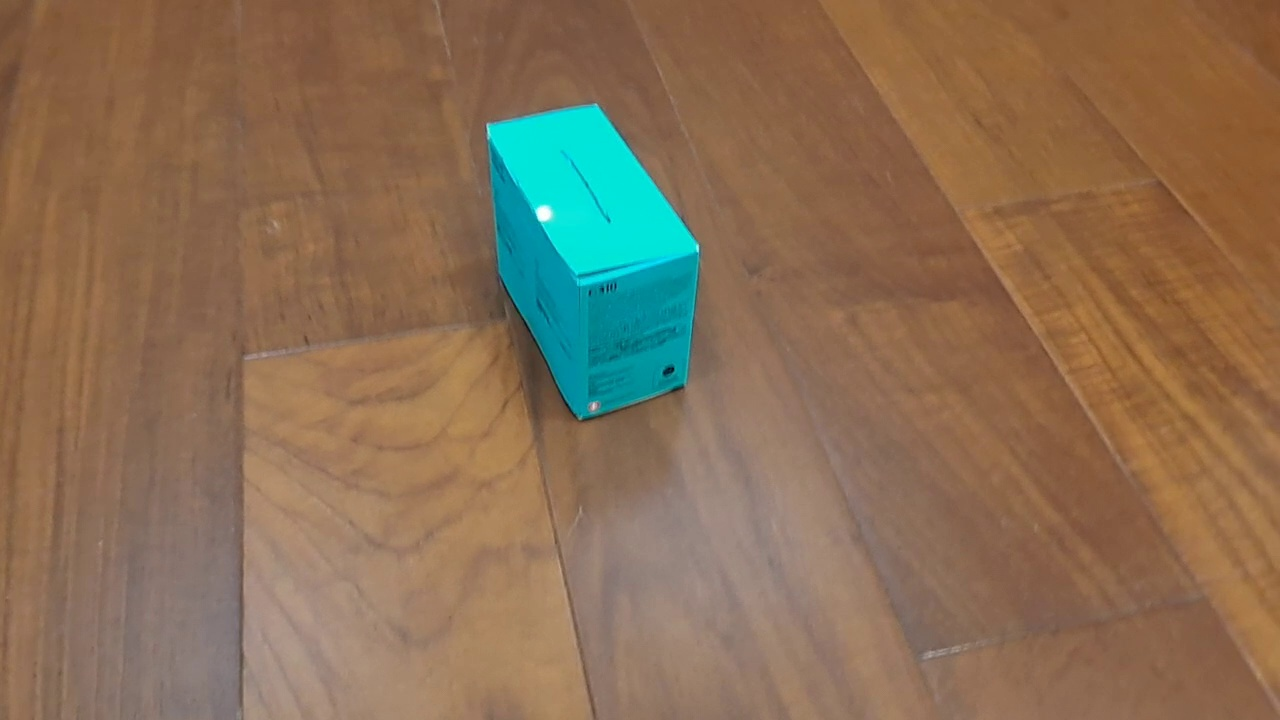webcam: (483, 101, 703, 425)
